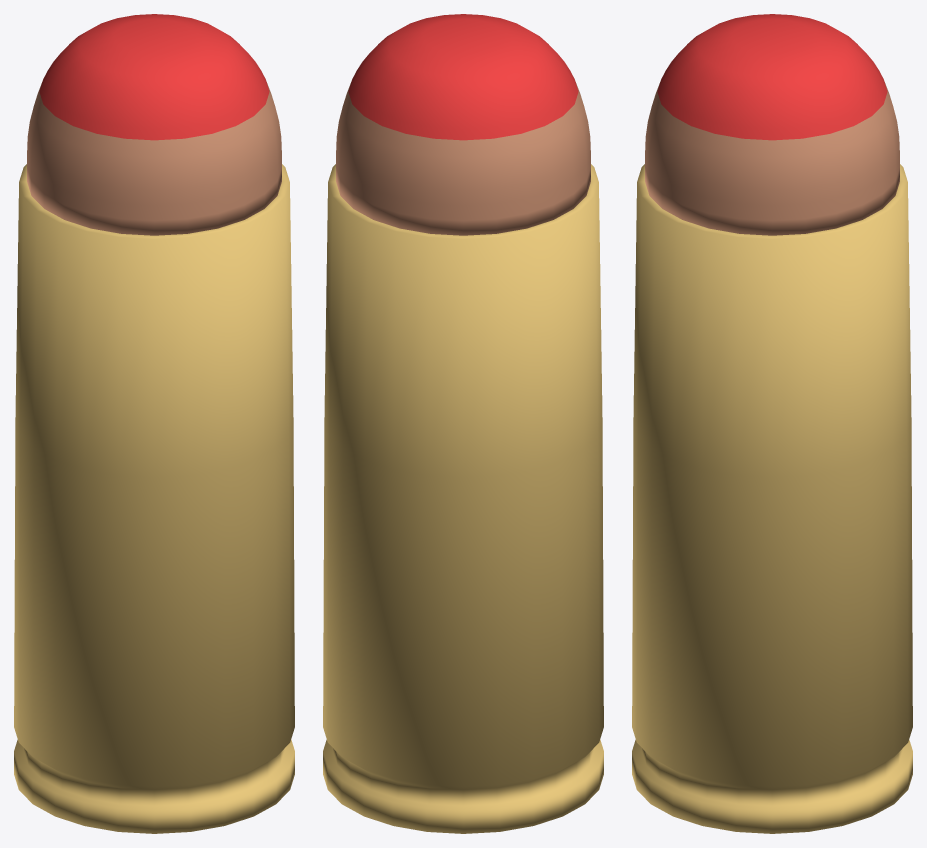
The picture shows the model from 3 angles, left to right: view 1: azimuth 30°, elevation 25°; view 2: azimuth 150°, elevation 25°; view 3: azimuth 270°, elevation 25°; orthographic projection.
Visible parts, largest first — view 1: vaina, bala_cuerpo, punta; view 2: vaina, bala_cuerpo, punta; view 3: vaina, bala_cuerpo, punta.
Boxes of the visible parts, box(x1,y1,x2,y2) form: vaina: box(14, 164, 294, 833); bala_cuerpo: box(27, 82, 281, 235); punta: box(39, 14, 269, 140); vaina: box(323, 164, 603, 833); bala_cuerpo: box(336, 82, 590, 235); punta: box(348, 14, 578, 140); vaina: box(632, 164, 912, 833); bala_cuerpo: box(645, 82, 899, 235); punta: box(657, 14, 887, 140).
Size of the model in its own units: 0.014 by 0.0406 by 0.014.
